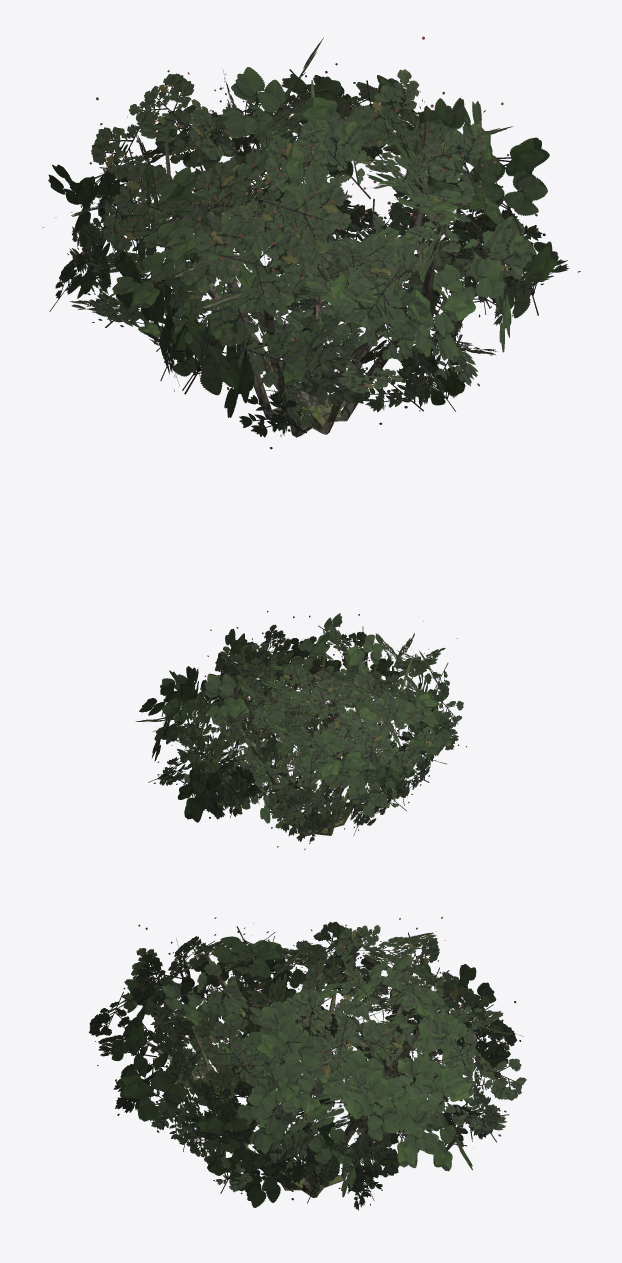
The model's file is bush.glb.
The picture shows the model from 3 angles, top to bottom: view 1: azimuth 30°, elevation 25°; view 2: azimuth 150°, elevation 25°; view 3: azimuth 270°, elevation 25°; orthographic projection. The views are drawn at different scales.
Parts seen in each view (by area): view 1: bush_cards_LOD0, bush_LOD0; view 2: bush_cards_LOD0, bush_LOD0; view 3: bush_cards_LOD0, bush_LOD0.
Boxes of the visible parts, x1=… form: bush_cards_LOD0: x1=42, y1=36, x2=580, y2=449; bush_LOD0: x1=99, y1=80, x2=483, y2=437; bush_cards_LOD0: x1=135, y1=611, x2=467, y2=850; bush_LOD0: x1=216, y1=645, x2=425, y2=837; bush_cards_LOD0: x1=89, y1=916, x2=526, y2=1210; bush_LOD0: x1=121, y1=943, x2=446, y2=1197.
Size of what is drawn, in the model's own units: 4.74 by 2.62 by 5.16.
2 materials, 2 textured.
